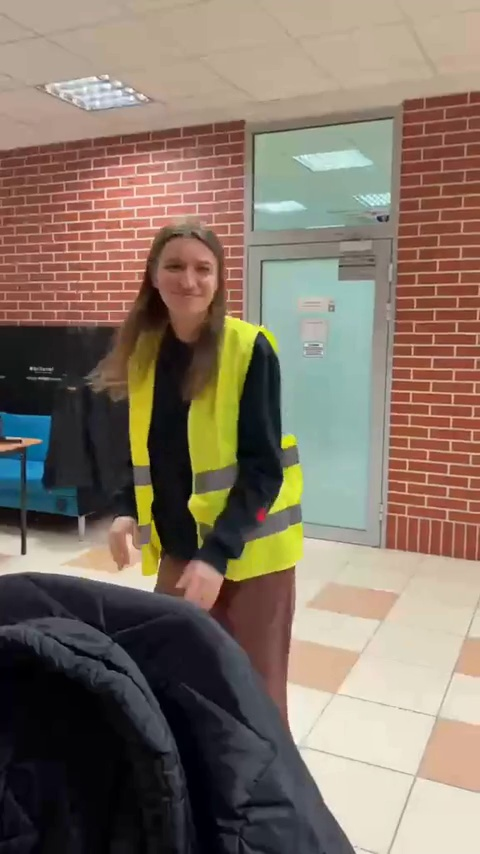vest: (95, 220, 302, 662)
